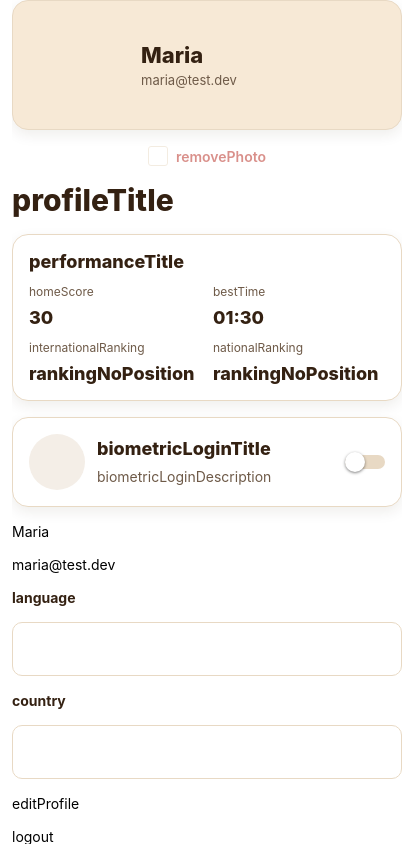
ProfileScreen editing mode › allows the player to activate biometric login from the profile
Click the switch named "biometricLoginTitle" at (365, 462), box [345,452,385,472]
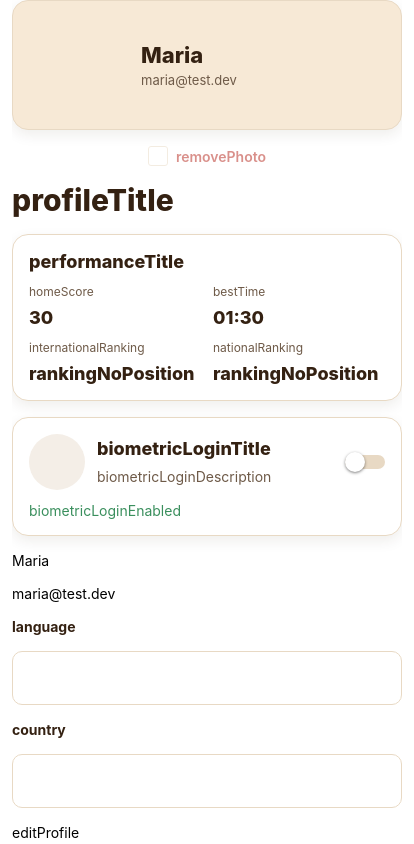
Result: the text "biometricLoginEnabled" is shown at [29,502,181,519]
